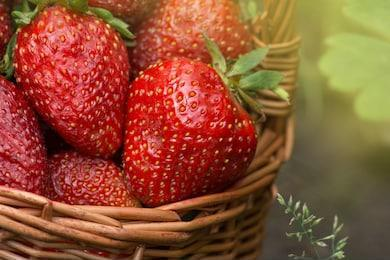Fresa: (118, 45, 262, 211), (5, 1, 138, 167)
